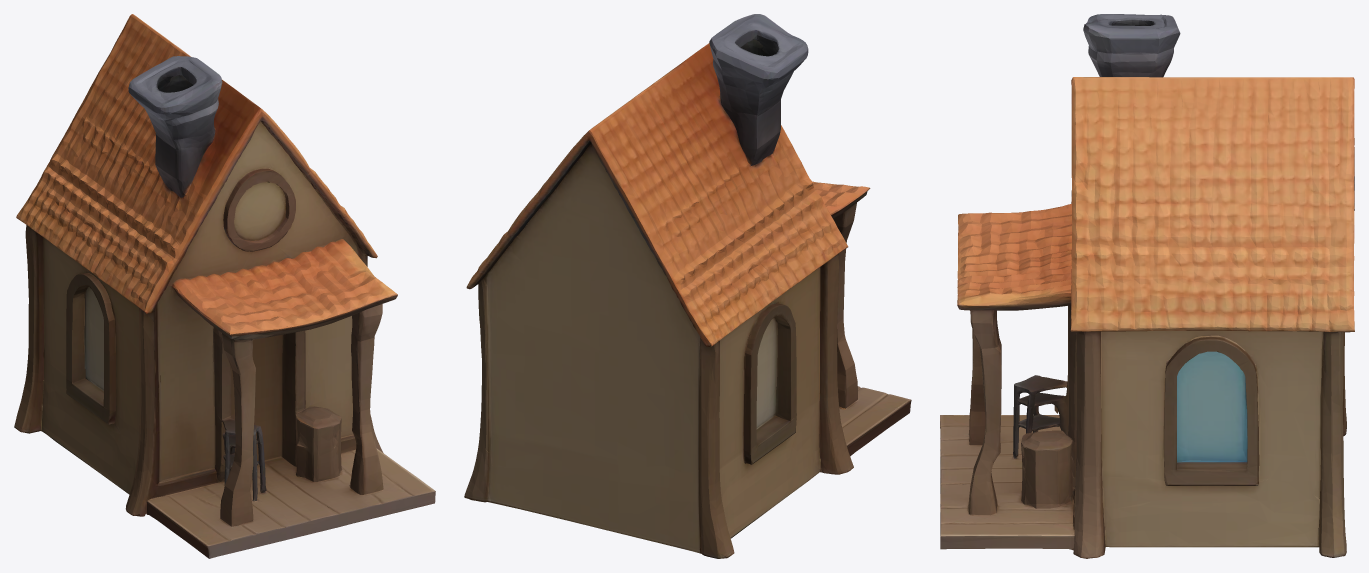
The model's file is partflow_t03.glb.
The picture shows the model from 3 angles, left to right: view 1: azimuth 30°, elevation 25°; view 2: azimuth 150°, elevation 25°; view 3: azimuth 270°, elevation 25°; orthographic projection. The views are drawn at different scales.
Parts seen in each view (by area): view 1: geometry_0; view 2: geometry_0; view 3: geometry_0.
Boxes of the visible parts, box(x1,y1,x2,y2) form: geometry_0: box(14, 14, 435, 558); geometry_0: box(464, 14, 911, 558); geometry_0: box(940, 14, 1354, 558).
Size of the model in its own units: 0.7265 by 1.13 by 0.9503.
Materials: 1 (1 with a texture image).
